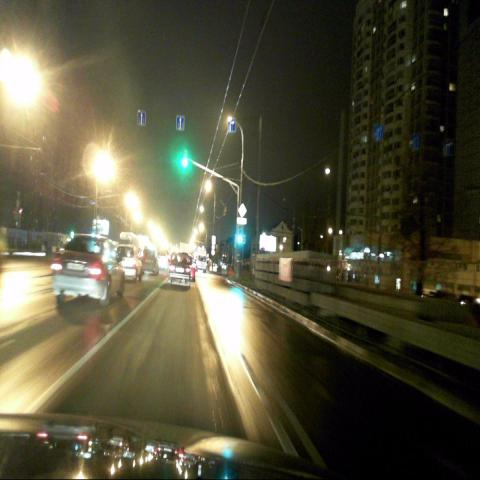2_1: (238, 202, 246, 216)
5_15_2: (410, 134, 419, 151), (442, 138, 451, 154), (374, 125, 382, 141), (138, 111, 146, 127), (228, 118, 236, 133), (176, 115, 184, 129)
